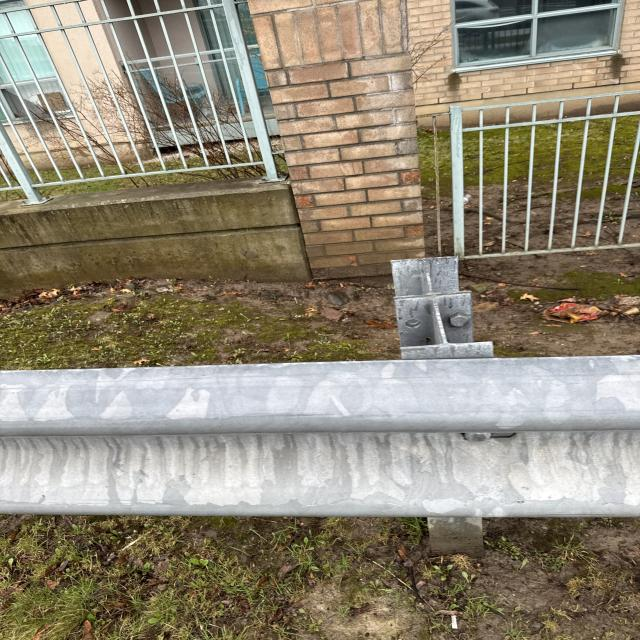Guard rail: (19, 364, 632, 524)
